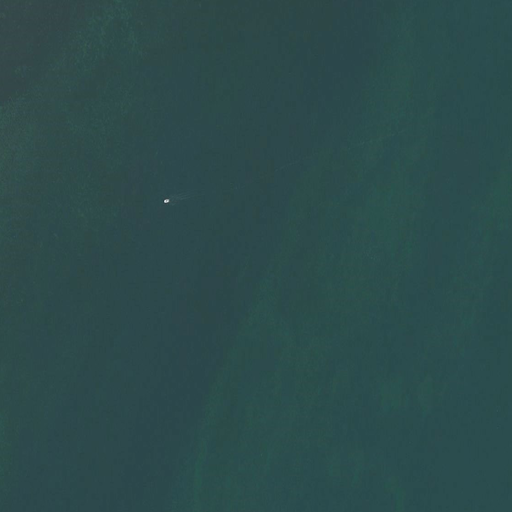ship: (163, 197, 169, 206)
